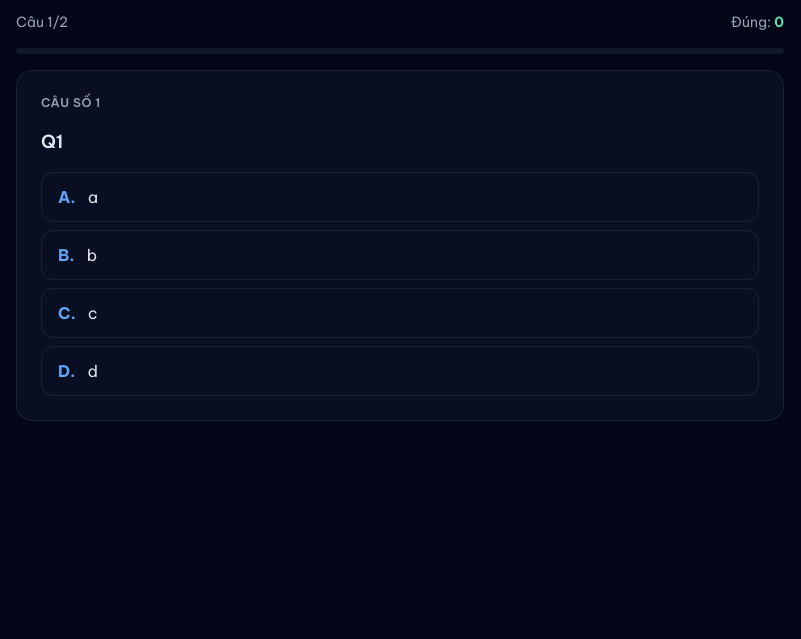
it: DrillRunner › chọn đáp án → gọi API → hiện giải thích → câu tiếp → hết thì nộp và hiện tổng kết
Expected: the text "Q1" is shown, 41,130 -> 63,153
Expected: the text "Câu 1/2" is shown, 16,12 -> 68,32
Step 1. Click the radio button labelled "B. b" → (64, 255), box 41,230 -> 759,280
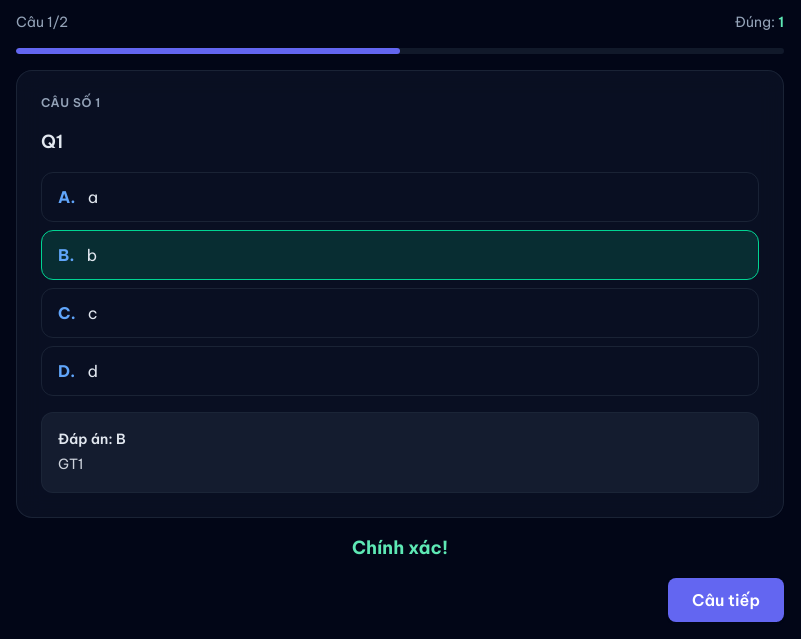
Expected: the text "GT1" is shown, 58,455 -> 84,473
Expected: the text "Chính xác!" is shown, 352,536 -> 448,559
Step 2. Click the button "Câu tiếp" → (726, 600), box 668,578 -> 784,622
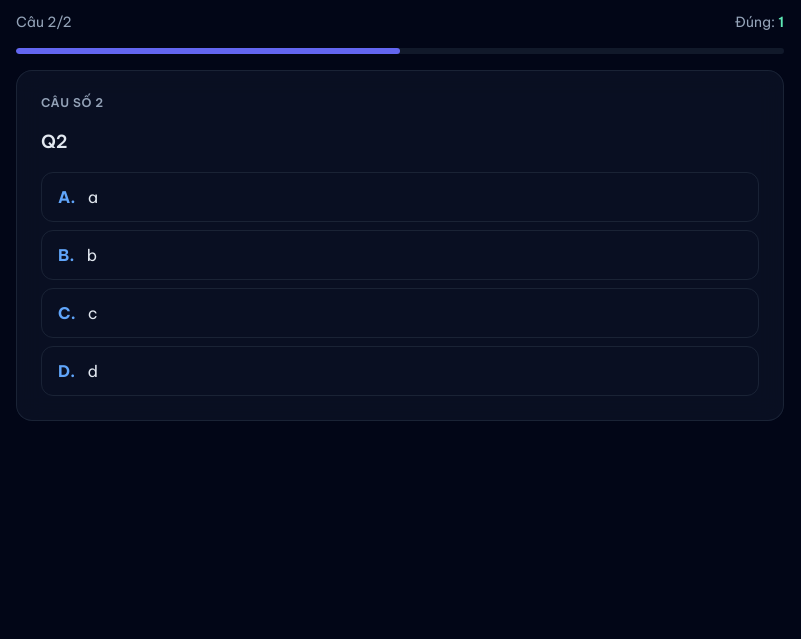
Expected: the text "Q2" is shown, 41,130 -> 68,153
Step 3. Click the radio button labelled "D. d" → (64, 371), box 41,346 -> 759,396
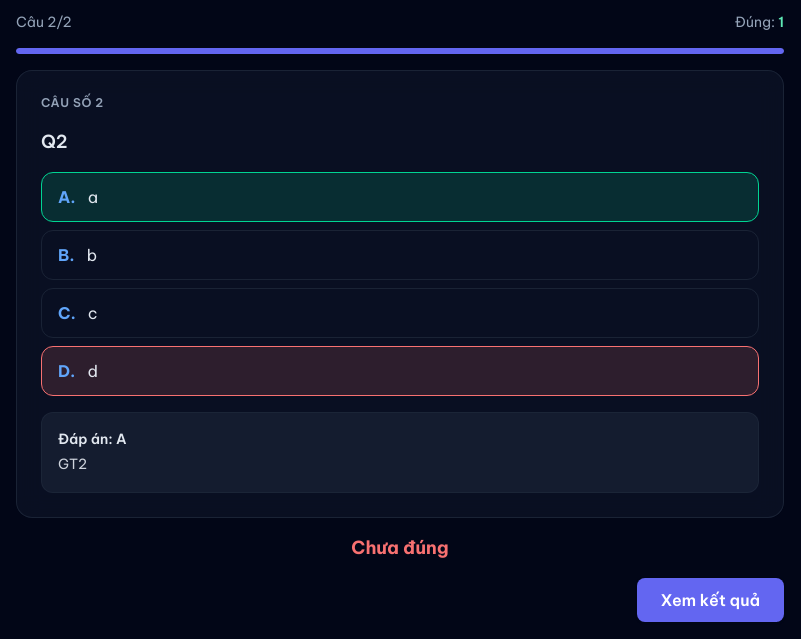
Expected: the text "GT2" is shown, 58,455 -> 87,473
Expected: the text "Chưa đúng" is shown, 351,536 -> 449,559
Step 4. Click the button "Xem kết quả" → (710, 600), box 637,578 -> 784,622
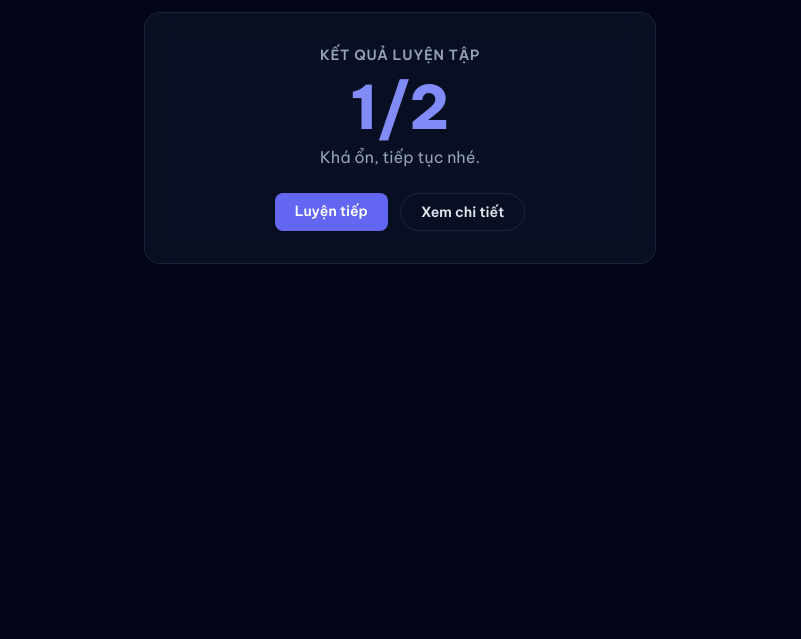
Expected: the text "1/2" is shown, 350,69 -> 450,145
